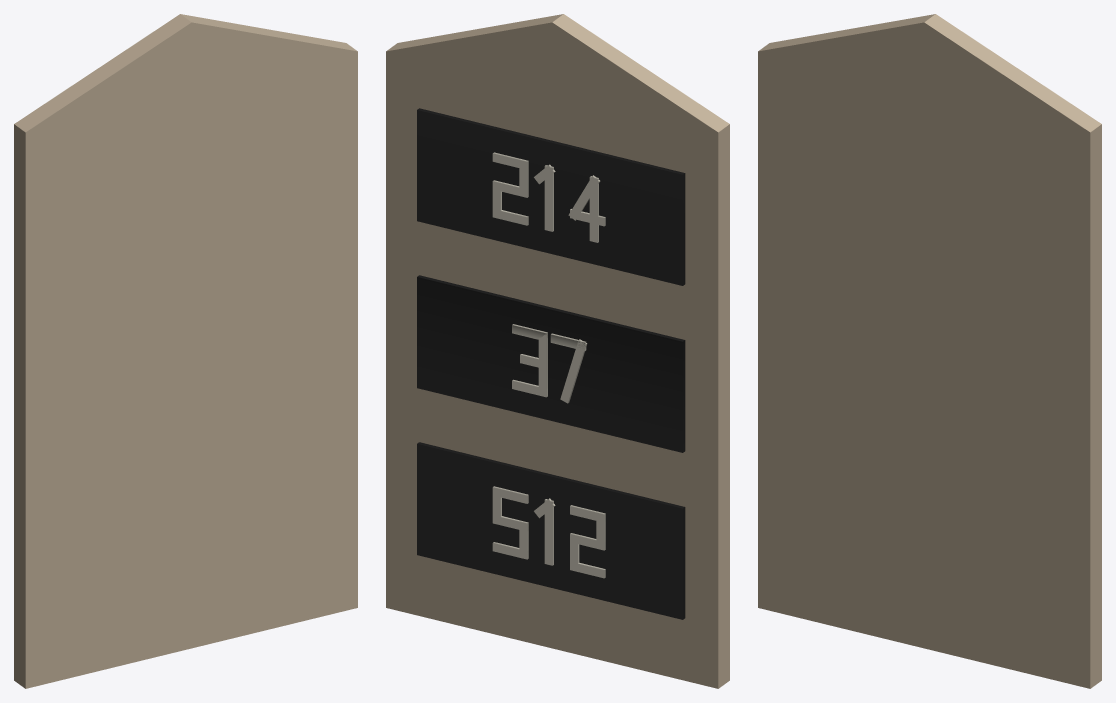
Rendered from hymn_board.glb.
3 renders of one model, left to right at view 1: azimuth 30°, elevation 25°; view 2: azimuth 150°, elevation 25°; view 3: azimuth 330°, elevation 25°, orthographic.
Visible parts, largest first — view 1: static; view 2: static; view 3: static.
Boxes of the visible parts, x1,y1,x2,y2 form: static: (14,14,357,688); static: (386,14,729,688); static: (758,14,1101,688).
Bounding box in the file's own units: 0.5 × 0.9 × 0.0395.
